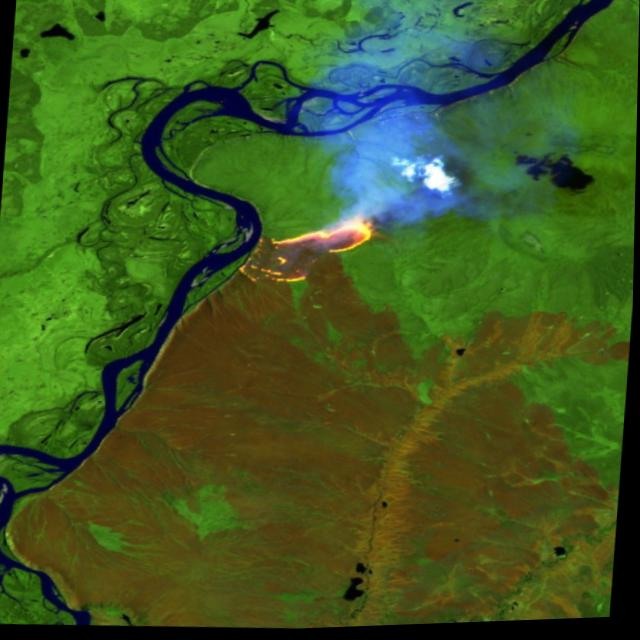fire: (219, 201, 391, 304)
